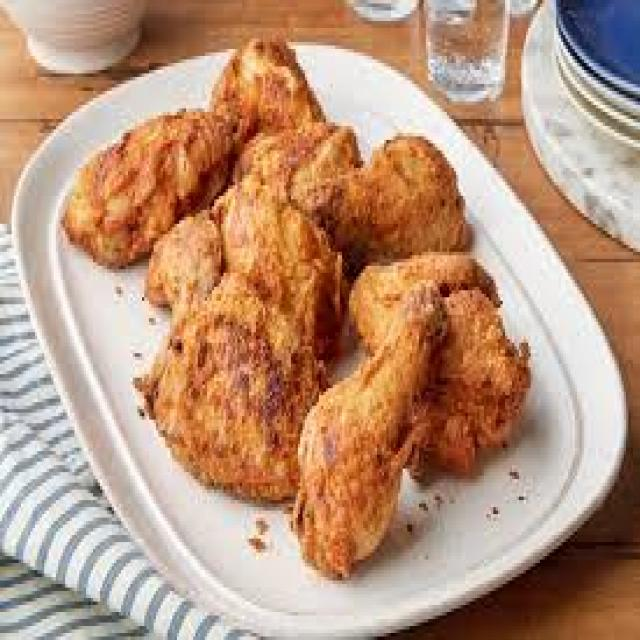Frango: (63, 31, 533, 566)
